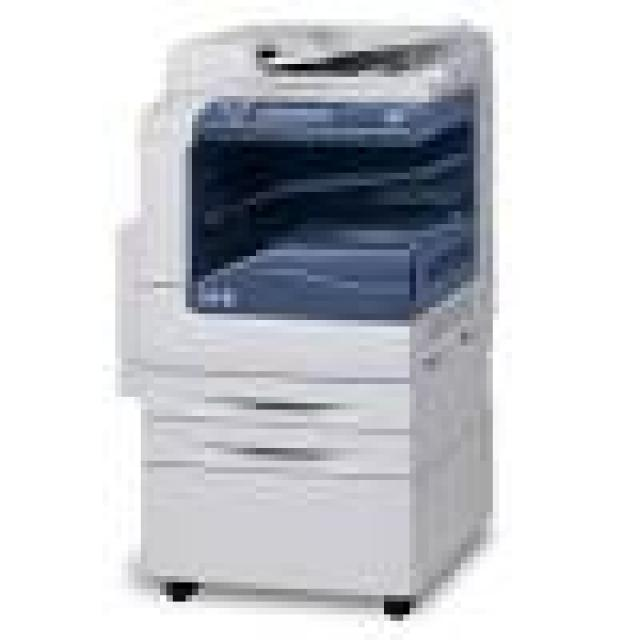printer: (104, 10, 517, 618)
